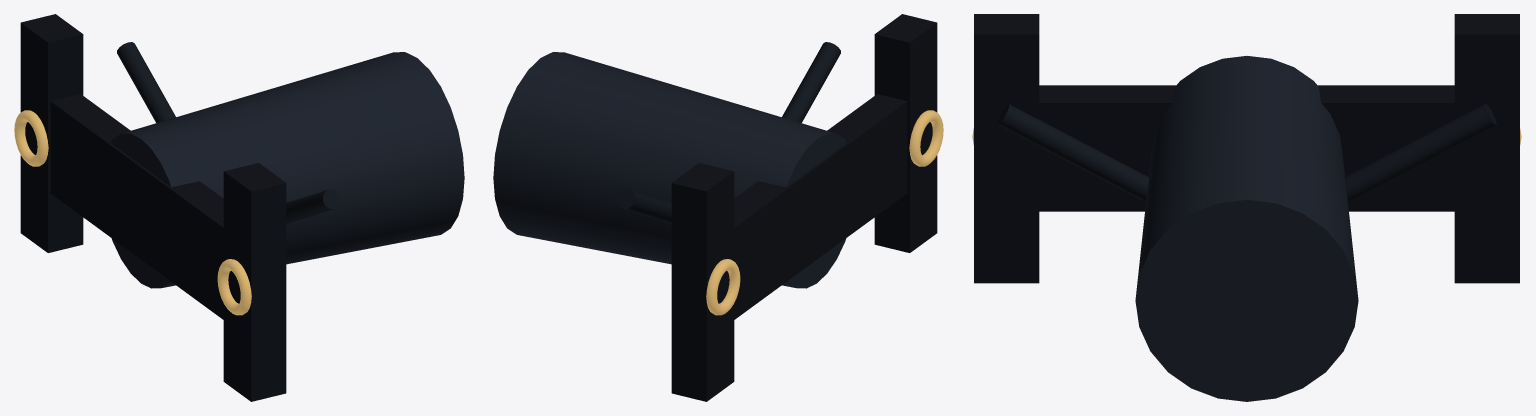
File: steering_luxury_3spoke.glb
3 renders of one model, left to right at view 1: azimuth 30°, elevation 25°; view 2: azimuth 150°, elevation 25°; view 3: azimuth 270°, elevation 25°, orthographic. The views are drawn at different scales.
Parts seen in each view (by area): view 1: SteeringColumn, WheelRotatingGroup; view 2: SteeringColumn, WheelRotatingGroup; view 3: SteeringColumn, WheelRotatingGroup.
Boxes of the visible parts, x1,y1,x2,y2 form: SteeringColumn: (110,42,464,288); WheelRotatingGroup: (14,14,286,401); SteeringColumn: (493,42,847,288); WheelRotatingGroup: (671,14,943,401); SteeringColumn: (997,56,1496,401); WheelRotatingGroup: (972,14,1521,283).
Bounding box in the file's own units: 0.23 × 0.16 × 0.32.
